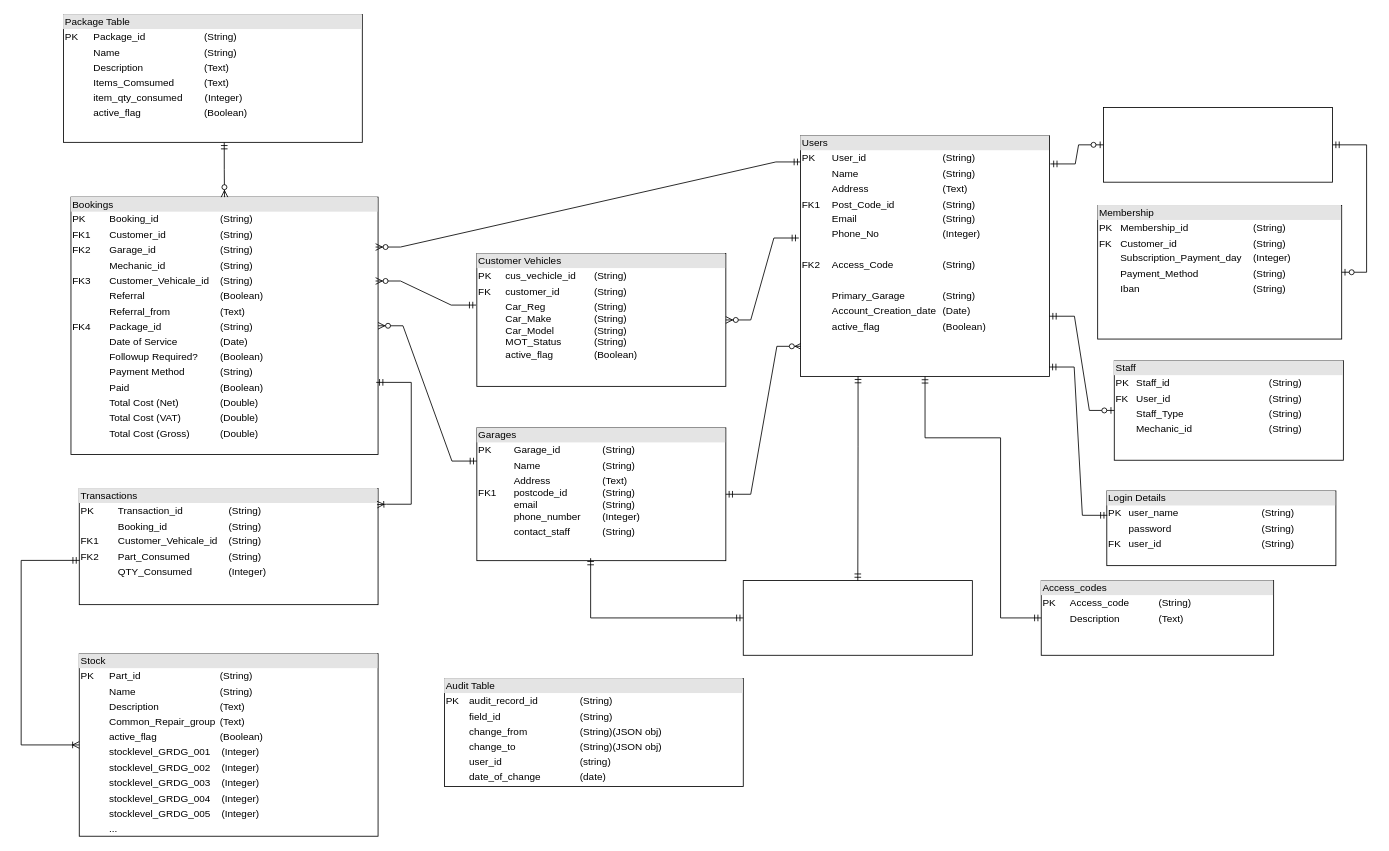
This 1389x851 diagram has some shape labels left out. Each missing label, with the box of its shape:
Customer PK Customer_id (String) FK User_id (String): (1103, 107, 1333, 182)
Post Codes PK Post_code_id (String) Post_code (String): (742, 580, 972, 655)
